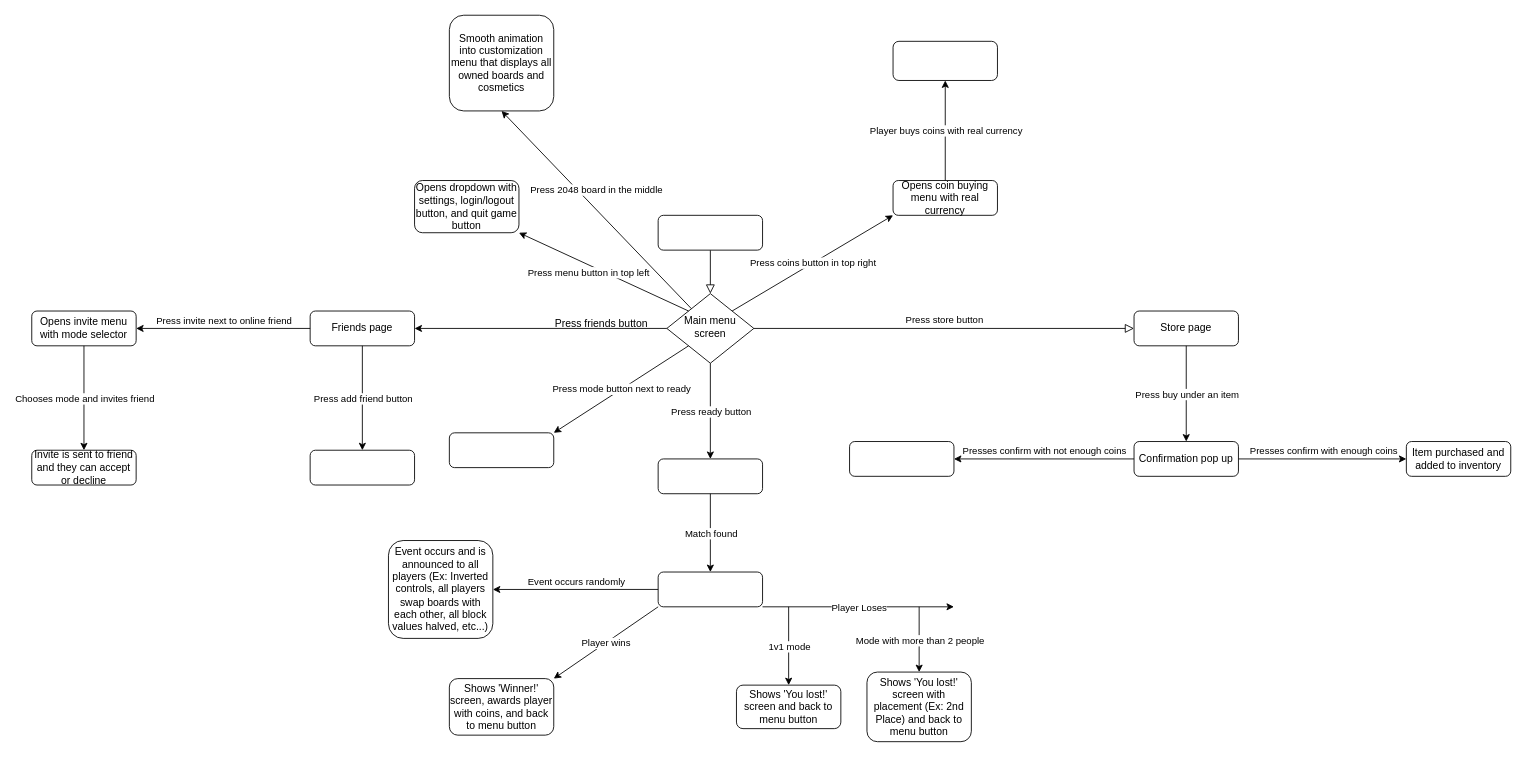
Some shapes in this 1526 by 757 pixel diagram are drawn without their labels. The shapes that lost their labels are listed below. From the top down, each one's centre as x and y in pixels, then its label:
(x=944, y=60): Purchased coin amount added to balance
(x=710, y=232): Player starts game
(x=362, y=467): Opens add friend pop up with prompt to type username
(x=501, y=450): Opens mode selector
(x=901, y=458): Purchase canceled and 'Insufficient coins' displayed
(x=710, y=476): Starts matchmaking
(x=710, y=589): Opens playing screen
